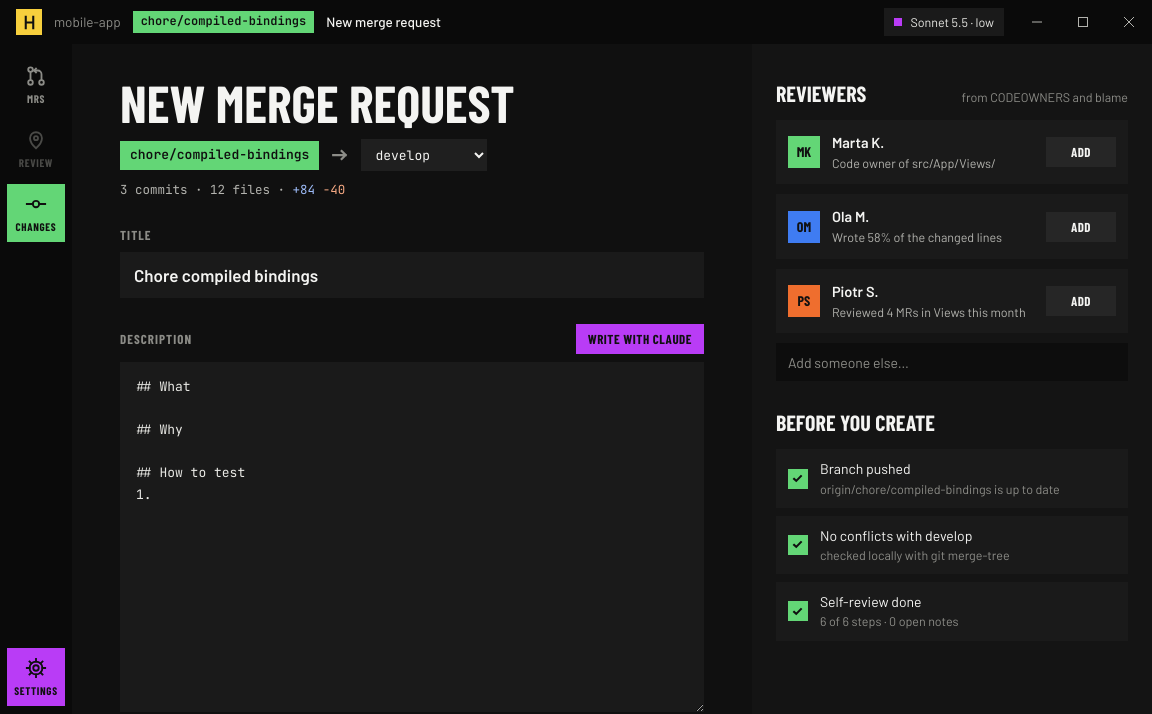
it: S-11 title and description (F-27.2) › F-27.2 a failed run shows its message, leaves the text and the slot as they were
Expected: the field labelled "Title" is not empty, [120,252,704,298]
Note: First Write fails: the skeleton and the title stay, the slot is Write with Claude again.
Click the button "Write with Claude" at (640, 339), box [576,324,704,354]
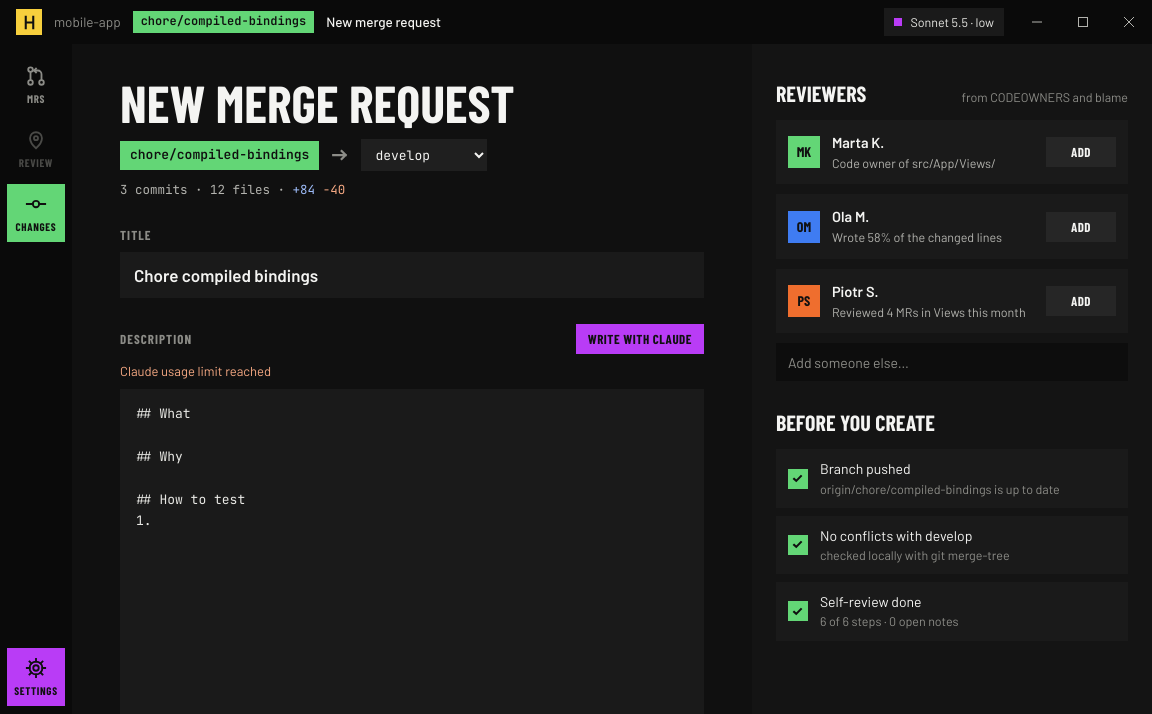
Expected: the field labelled "Title" holds "Chore compiled bindings", [120,252,704,298]
Expected: the message reads "Claude usage limit reached", [120,363,271,379]
Click the button "Write with Claude" at (640, 339), box [576,324,704,354]
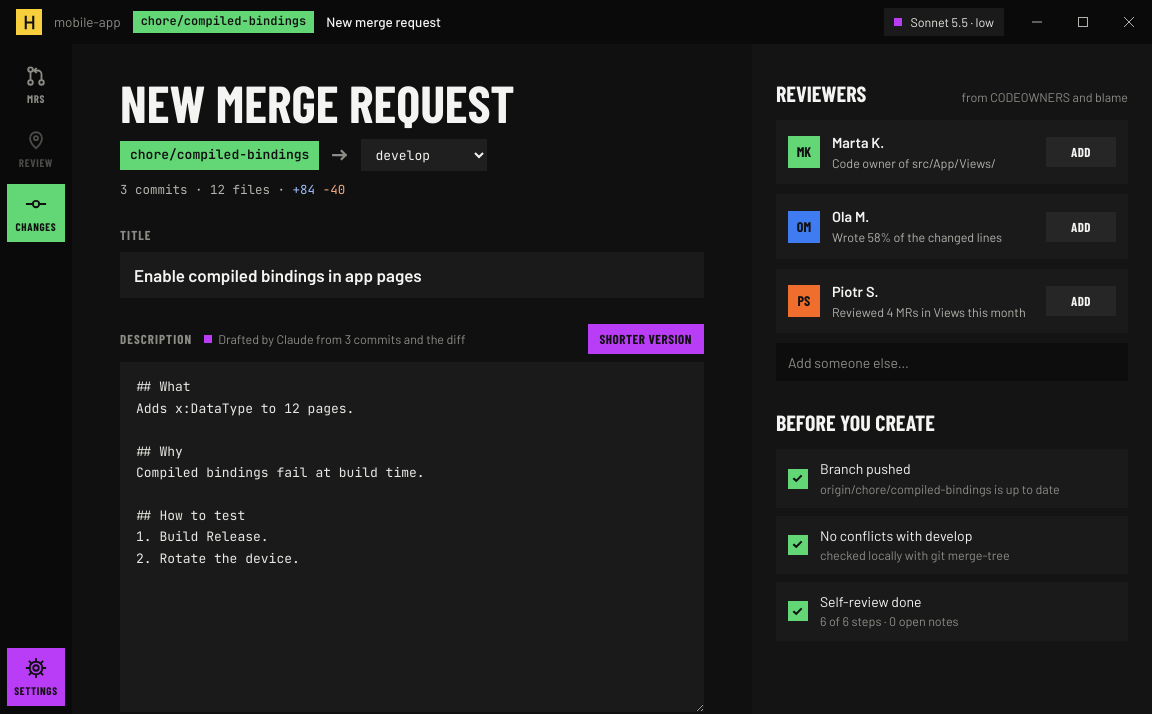
Expected: the button "Shorter version" is shown
Expected: the message "Claude usage limit reached" is gone
Click the button "Shorter version" at (646, 339), box [588,324,704,354]
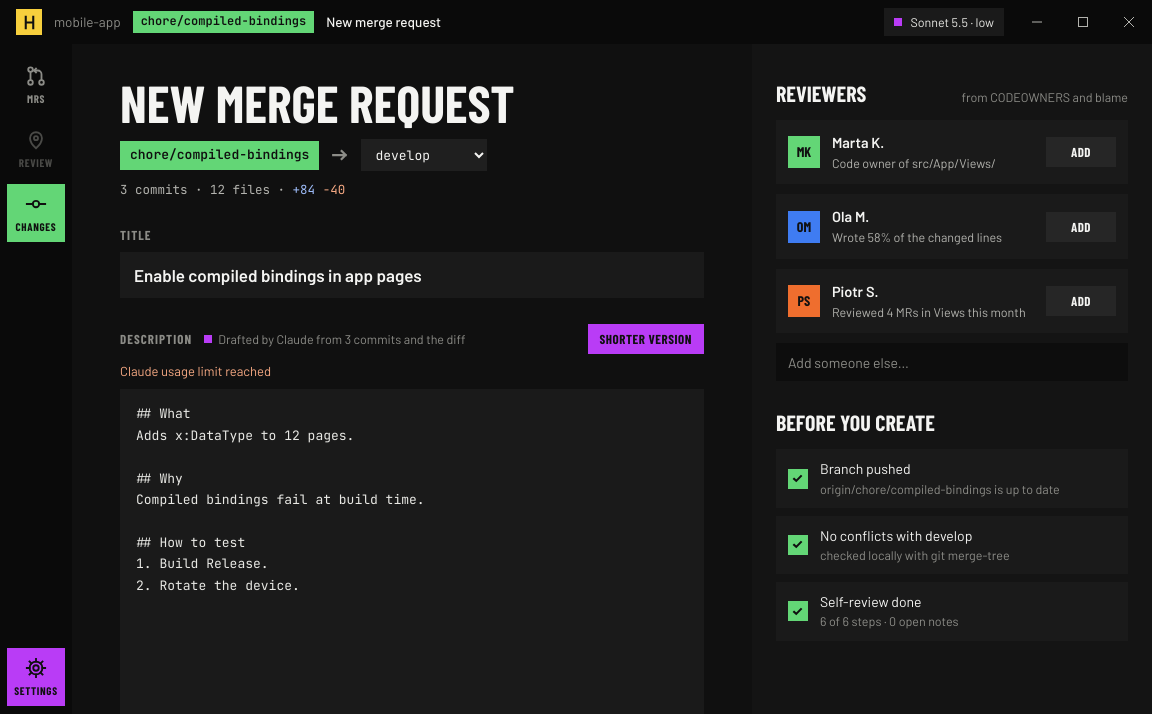
Expected: the field labelled "Title" holds "Enable compiled bindings in app pages", [120,252,704,298]
Expected: the message reads "Claude usage limit reached", [120,363,271,379]
